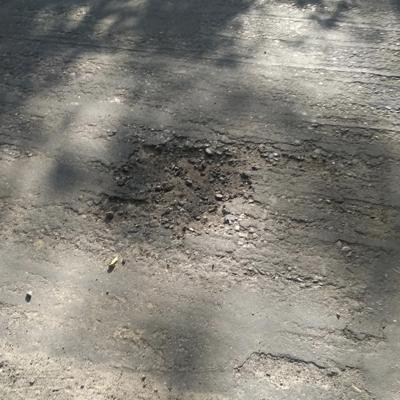Pothole: (101, 118, 259, 248)
